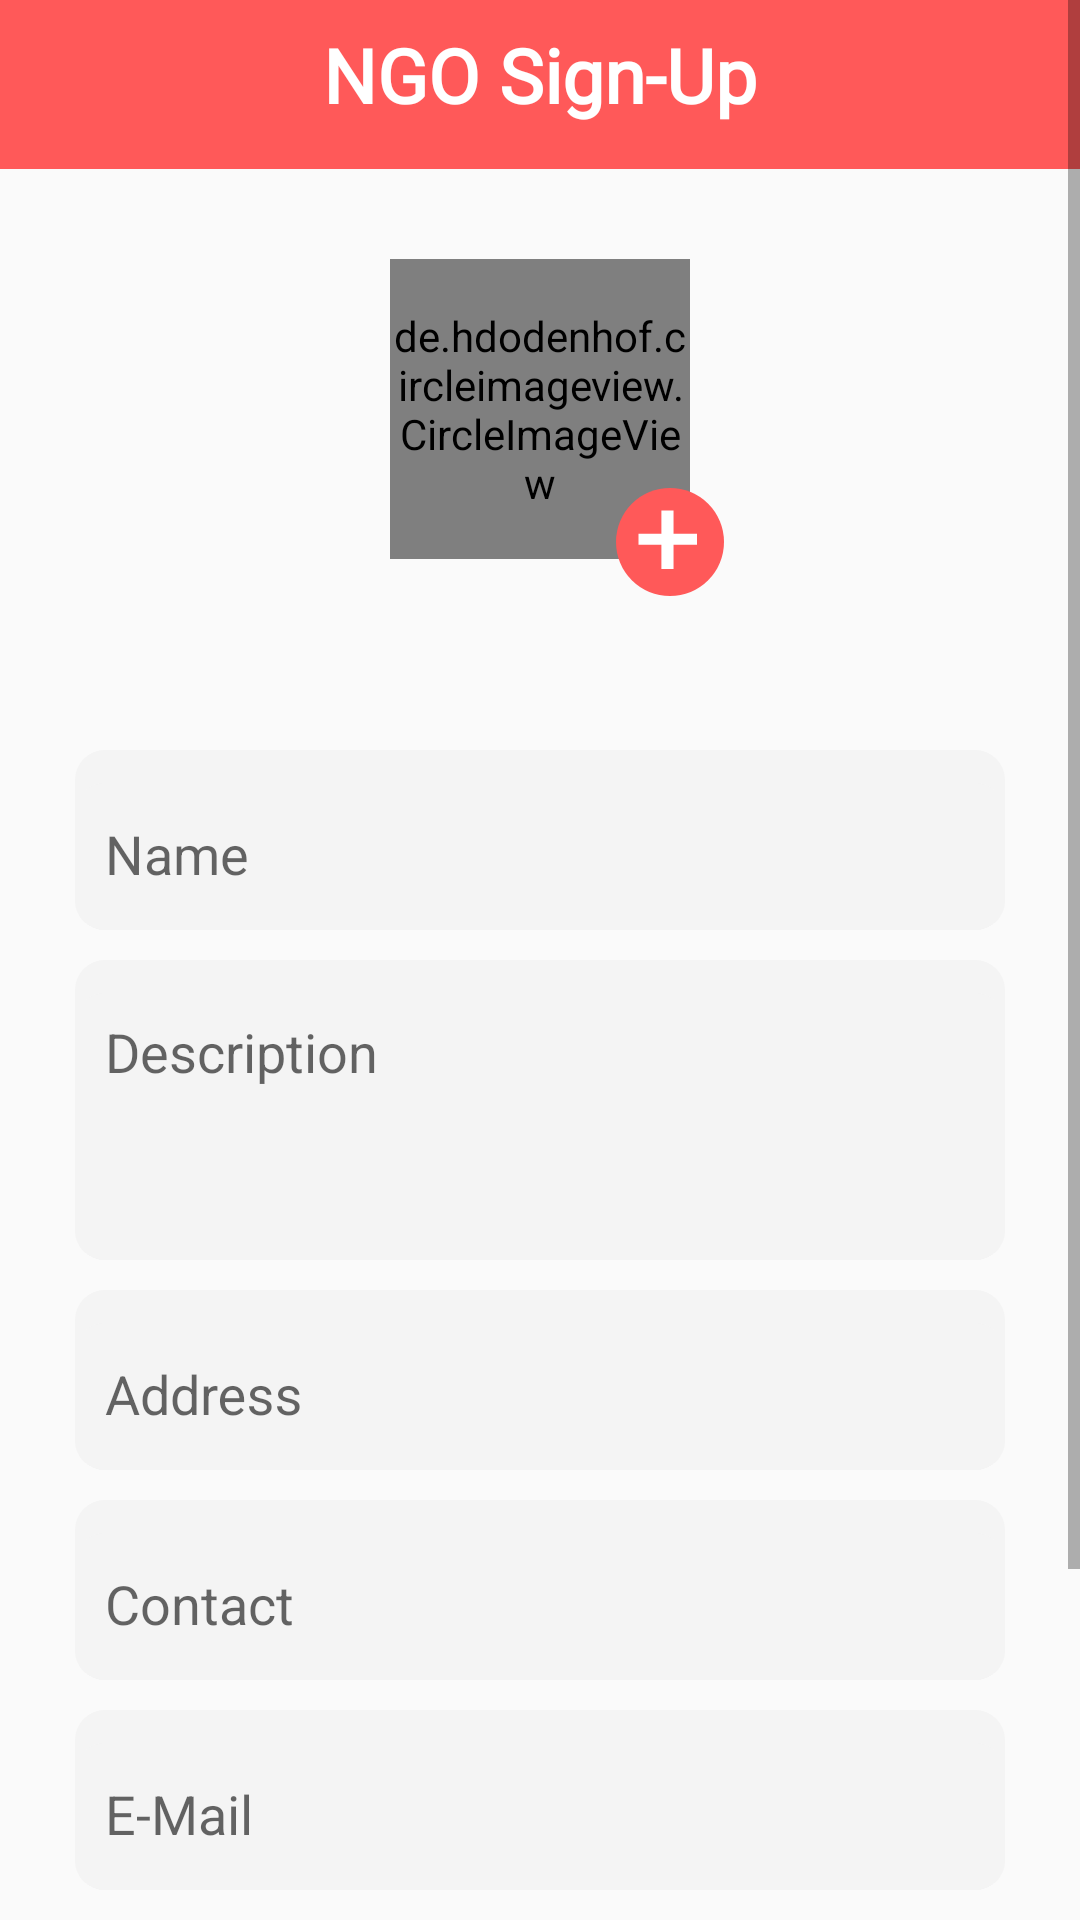

Named icons in this screenshot (1080×1920) and their centers, [x,y]:
plus: [670,542]
